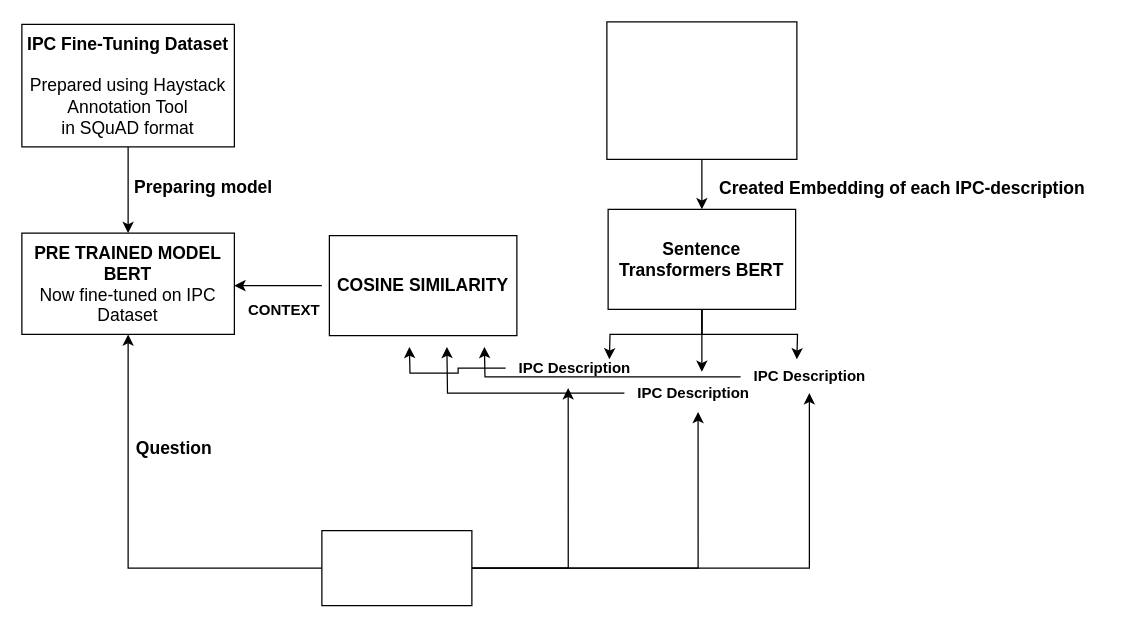
This 1124x628 diagram has some shape labels left out. Here are the shapes that lost their labels. From the top down, the centre of each, then its label:
[701,90]: IPC-Description Dataset Prepared using data available on .gov website
[396,567]: USER
